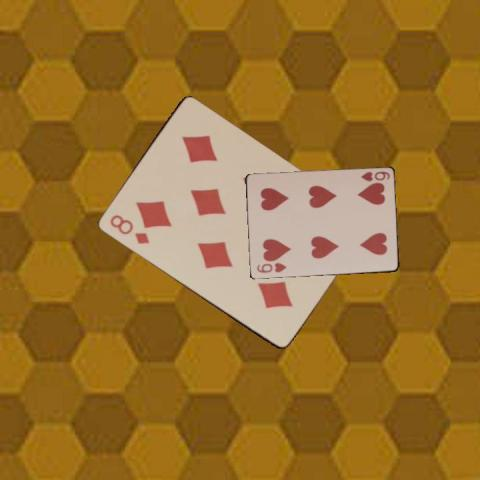6h: (254, 260, 288, 275), (357, 168, 391, 182)
8d: (106, 211, 151, 246)
